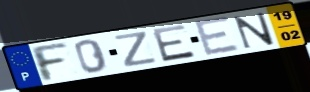0: (74, 38, 109, 75)
E: (191, 15, 242, 58), (150, 23, 198, 63)
F: (27, 42, 71, 83)
N: (232, 11, 277, 50)
Z: (113, 30, 160, 69)
